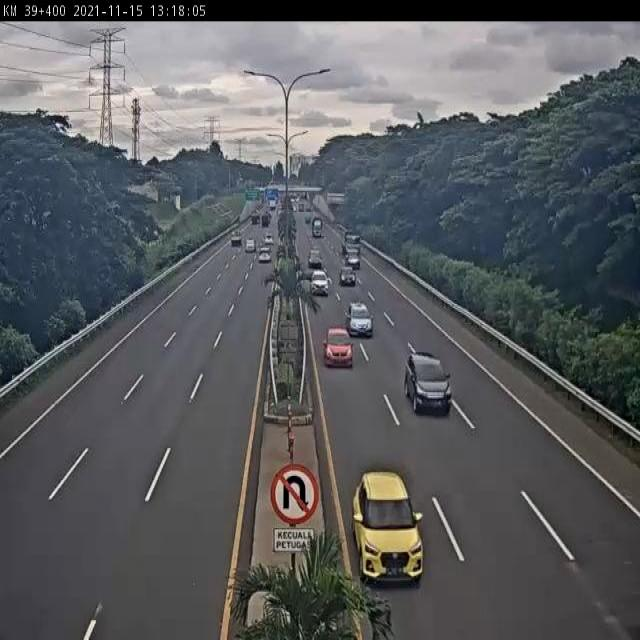Car: (352, 469, 424, 585), (399, 342, 456, 416), (322, 326, 354, 368), (346, 302, 372, 338), (310, 270, 330, 295), (339, 265, 357, 286), (307, 250, 322, 269), (345, 252, 360, 271), (345, 242, 361, 259), (245, 238, 256, 252), (230, 234, 242, 246)
